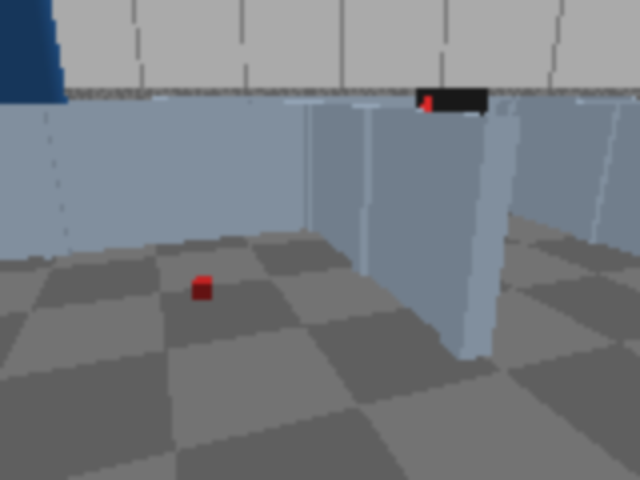person: (0, 0, 85, 242)
puck: (193, 278, 213, 300)
